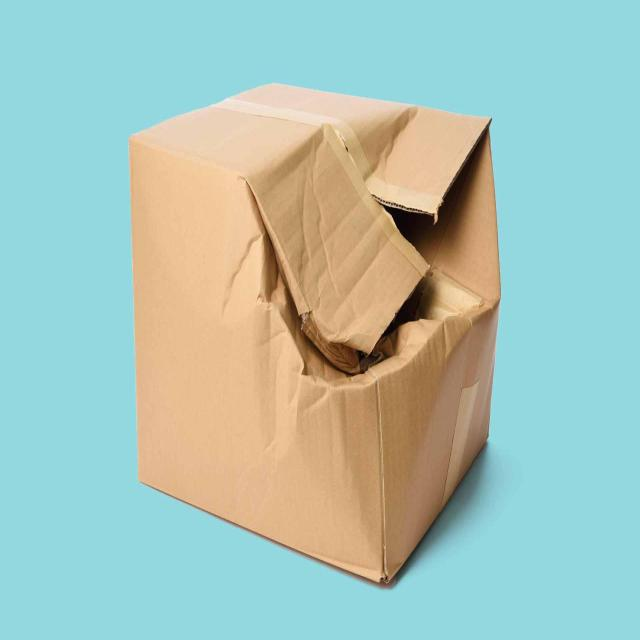Garbage: (120, 76, 507, 594)
